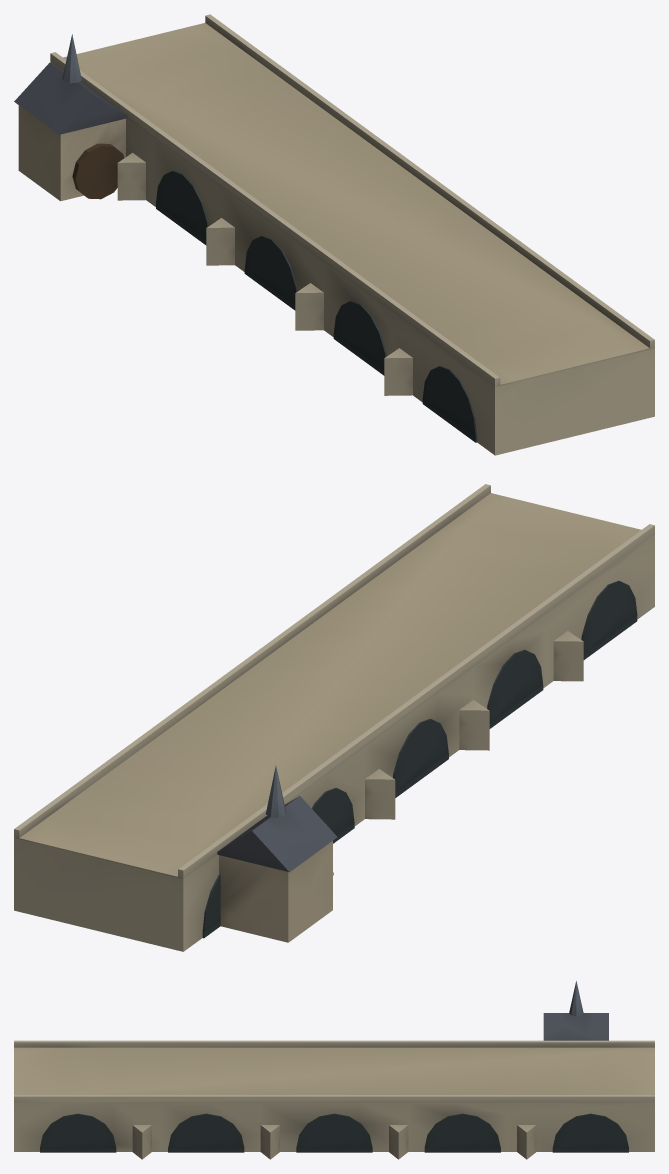
Rendered from pont-notre-dame-1789.glb.
3 views of the same model, one above another, from view 1: azimuth 30°, elevation 25°; view 2: azimuth 150°, elevation 25°; view 3: azimuth 270°, elevation 25° (orthographic). The views are drawn at different scales.
Parts seen in each view (by area): view 1: p0_arches, p1_pump; view 2: p0_arches, p1_pump; view 3: p0_arches, p1_pump.
Boxes of the visible parts, x1,y1,x2,y2 form: p0_arches: [50, 14, 654, 455]; p1_pump: [14, 34, 127, 201]; p0_arches: [14, 484, 654, 951]; p1_pump: [217, 766, 337, 942]; p0_arches: [14, 1040, 654, 1159]; p1_pump: [543, 981, 608, 1040].
Size of the model in its own units: 34.4 by 19 by 106.
